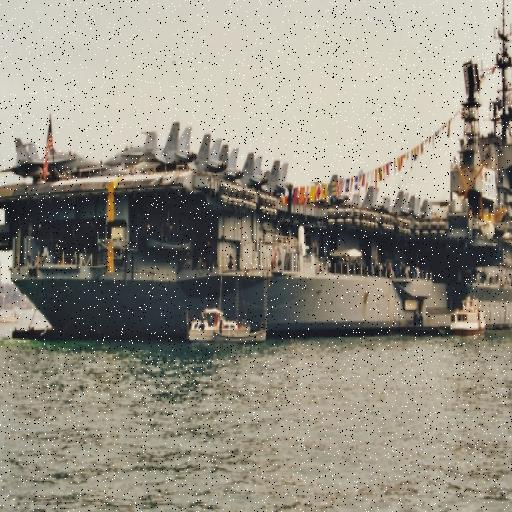Portanaves: (1, 1, 512, 349)
